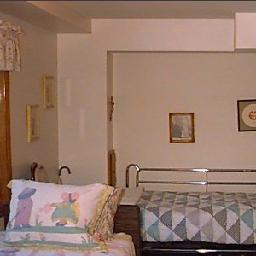Cama: (109, 180, 255, 251), (5, 188, 133, 252)
